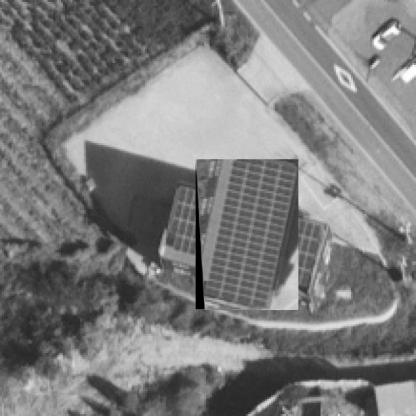solar-pv-panel: (202, 160, 298, 309)
